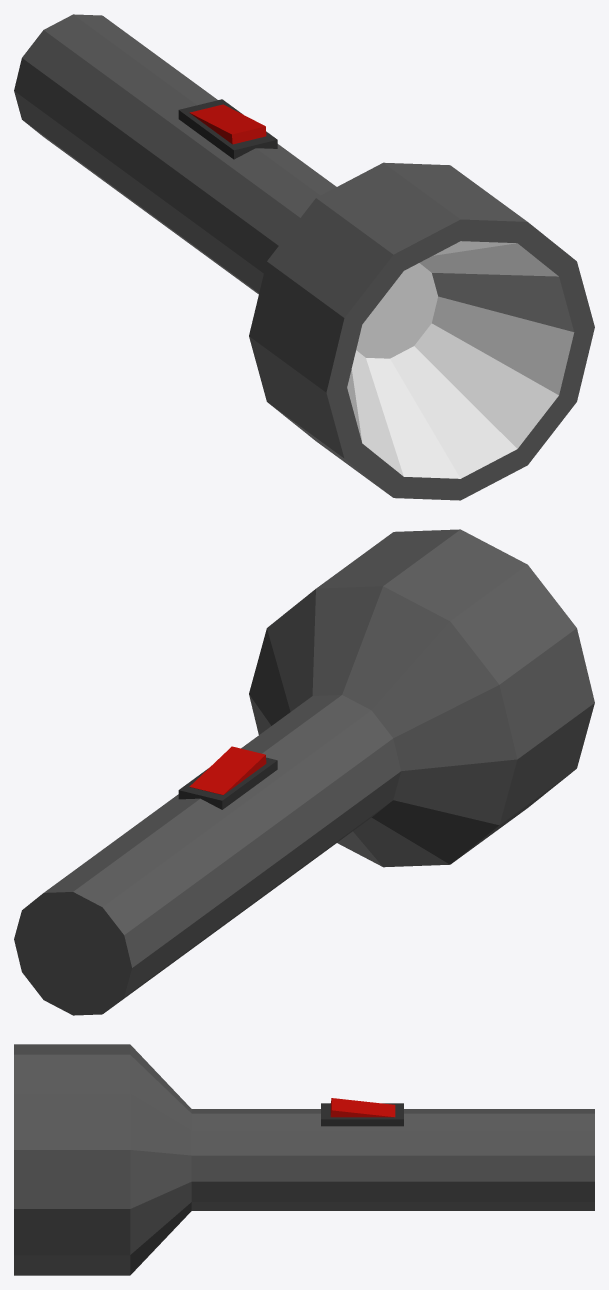
The model's file is flashlight.glb.
The picture shows the model from 3 angles, top to bottom: view 1: azimuth 30°, elevation 25°; view 2: azimuth 150°, elevation 25°; view 3: azimuth 270°, elevation 25°; orthographic projection. The views are drawn at different scales.
Parts seen in each view (by area): view 1: Circle, Cube.001, Cube; view 2: Circle, Cube.001, Cube; view 3: Circle, Cube, Cube.001.
Part boxes in pixels (x1=…): Circle: x1=14, y1=14, x2=594, y2=500; Cube.001: x1=189, y1=104, x2=266, y2=144; Cube: x1=178, y1=99, x2=277, y2=159; Circle: x1=14, y1=529, x2=594, y2=1015; Cube.001: x1=189, y1=746, x2=266, y2=794; Cube: x1=178, y1=757, x2=277, y2=809; Circle: x1=14, y1=1044, x2=594, y2=1275; Cube: x1=321, y1=1103, x2=403, y2=1126; Cube.001: x1=330, y1=1098, x2=395, y2=1117.
Bounding box in the file's own units: 2 × 2 × 5.
